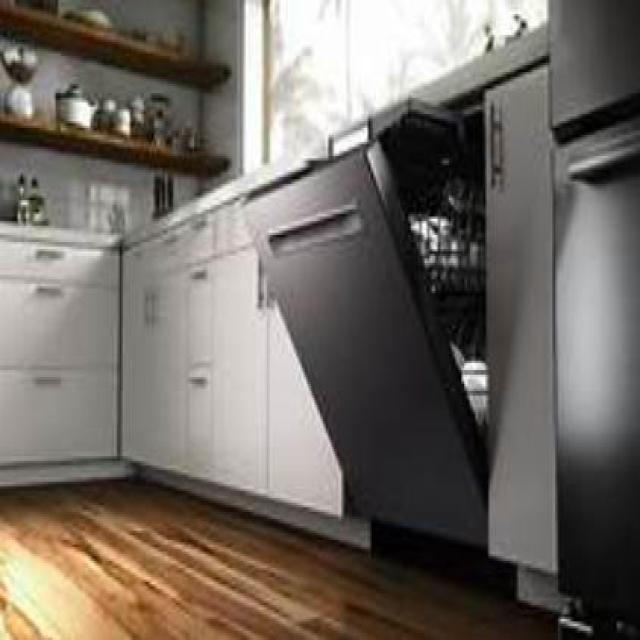dishwasher: (235, 88, 482, 550)
